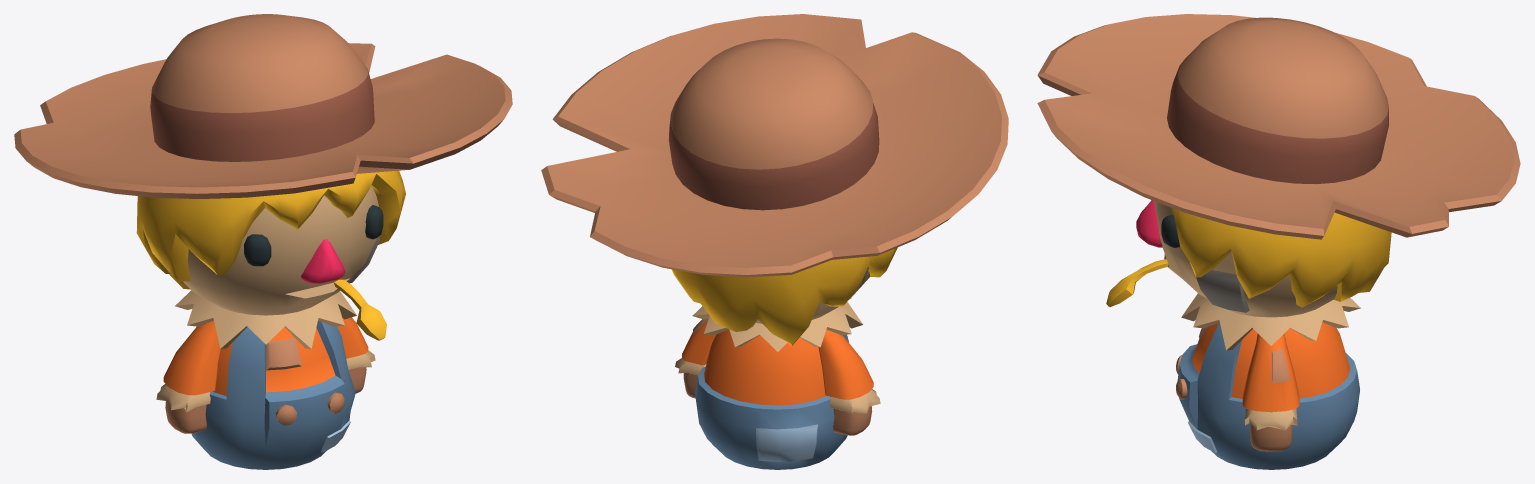
File: character_scarecrow.fbx
3 views of the same model, side by side, from view 1: azimuth 30°, elevation 25°; view 2: azimuth 150°, elevation 25°; view 3: azimuth 270°, elevation 25° (orthographic). The views are drawn at different scales.
Parts seen in each view (by area): view 1: character_scarecrowHat, character_scarecrowHead, character_scarecrow, character_scarecrowArmRight, character_scarecrowArmLeft, character_scarecrowStraw; view 2: character_scarecrowHat, character_scarecrow, character_scarecrowHead, character_scarecrowArmRight, character_scarecrowArmLeft; view 3: character_scarecrowHat, character_scarecrowHead, character_scarecrow, character_scarecrowArmLeft, character_scarecrowStraw.
Boxes of the visible parts, <box> form: character_scarecrowHat: <box>14,14,512,198</box>; character_scarecrowHead: <box>136,170,405,348</box>; character_scarecrow: <box>191,320,355,469</box>; character_scarecrowArmRight: <box>156,320,220,433</box>; character_scarecrowArmLeft: <box>337,317,375,393</box>; character_scarecrowStraw: <box>334,279,386,340</box>; character_scarecrowHat: <box>541,14,1008,277</box>; character_scarecrow: <box>695,329,848,469</box>; character_scarecrowHead: <box>671,247,897,351</box>; character_scarecrowArmRight: <box>818,329,880,435</box>; character_scarecrowArmLeft: <box>675,318,716,398</box>; character_scarecrowHat: <box>1037,14,1520,239</box>; character_scarecrowHead: <box>1136,200,1391,350</box>; character_scarecrow: <box>1176,322,1359,469</box>; character_scarecrowArmLeft: <box>1242,333,1299,451</box>; character_scarecrowStraw: <box>1106,259,1168,306</box>.
Bounding box in the file's own units: 211 × 193 × 206.
